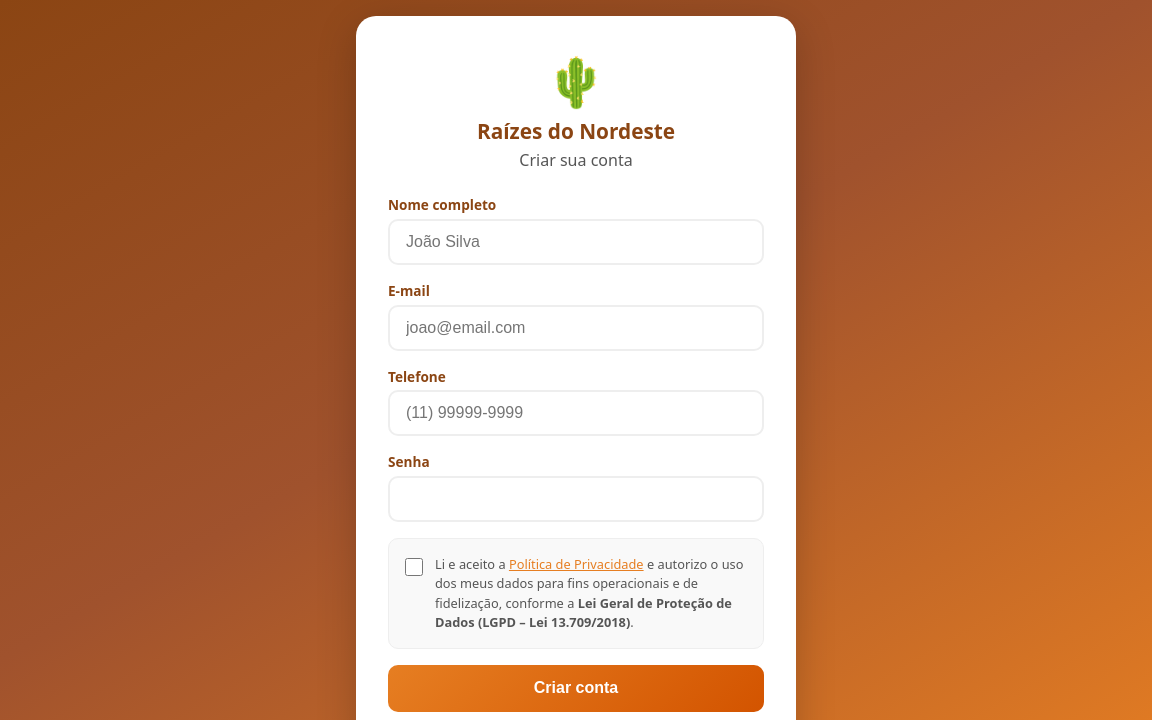
it: Cadastro › deve formatar telefone enquanto o usuário digita
This screenshot has width=1152, height=720.
Type "11999998888" into the field with id "telefone" at (576,413), box [388,390,764,436]
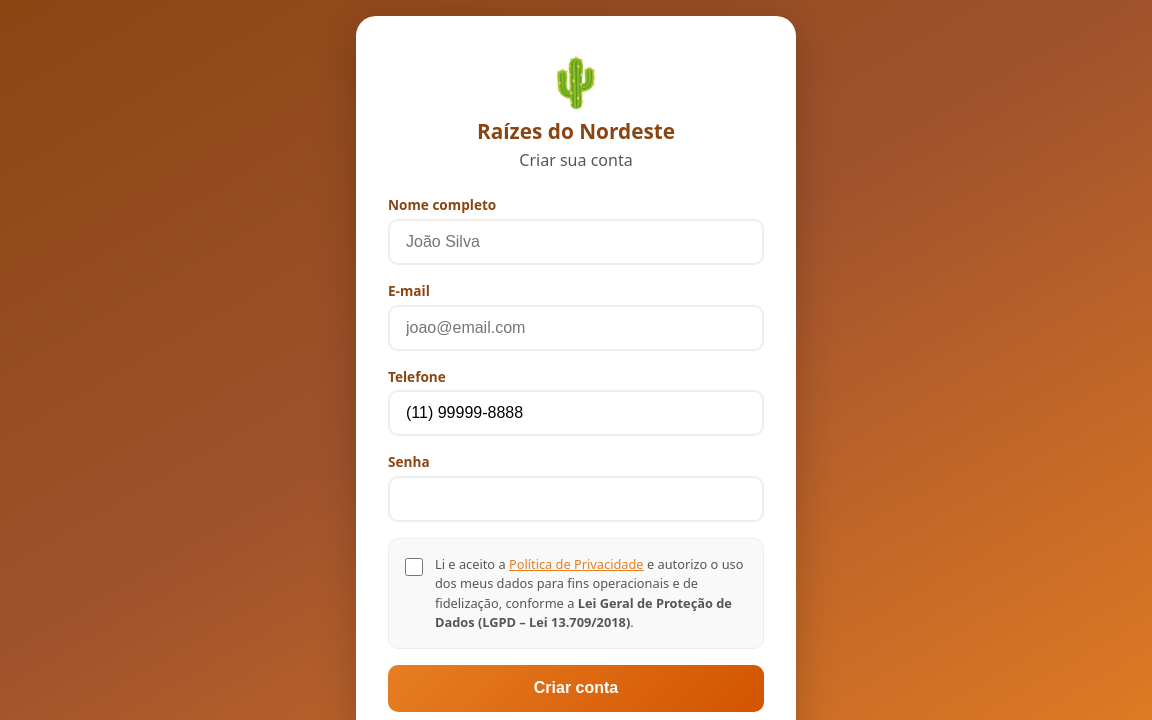
Check: the field with id "telefone" holds "(11) 99999-8888", box [388,390,764,436]
